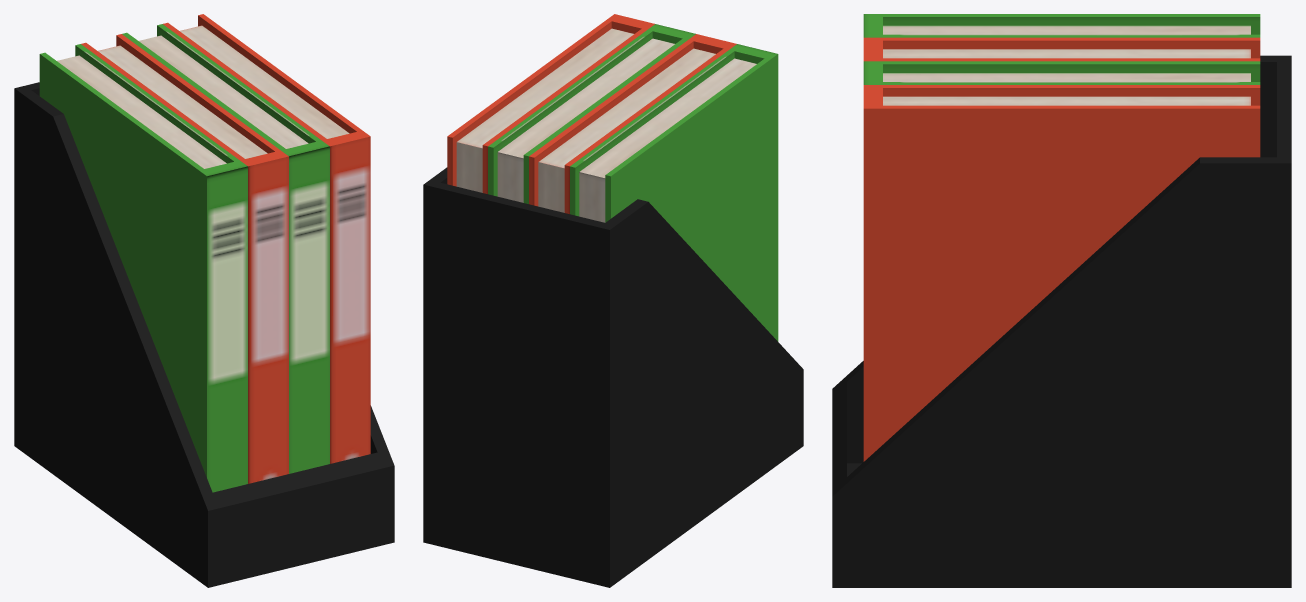
Rendered from file organizer.FBX.
3 renders of one model, left to right at view 1: azimuth 30°, elevation 25°; view 2: azimuth 150°, elevation 25°; view 3: azimuth 270°, elevation 25°, orthographic. The views are drawn at different scales.
Parts seen in each view (by area): view 1: file organizer; view 2: file organizer; view 3: file organizer.
Part boxes in pixels (left/top/right/bottom): file organizer: left=14, top=14, right=394, bottom=587; file organizer: left=423, top=14, right=803, bottom=587; file organizer: left=832, top=14, right=1291, bottom=587.
Bounding box in the file's own units: 6.84 × 12.31 × 13.99.
